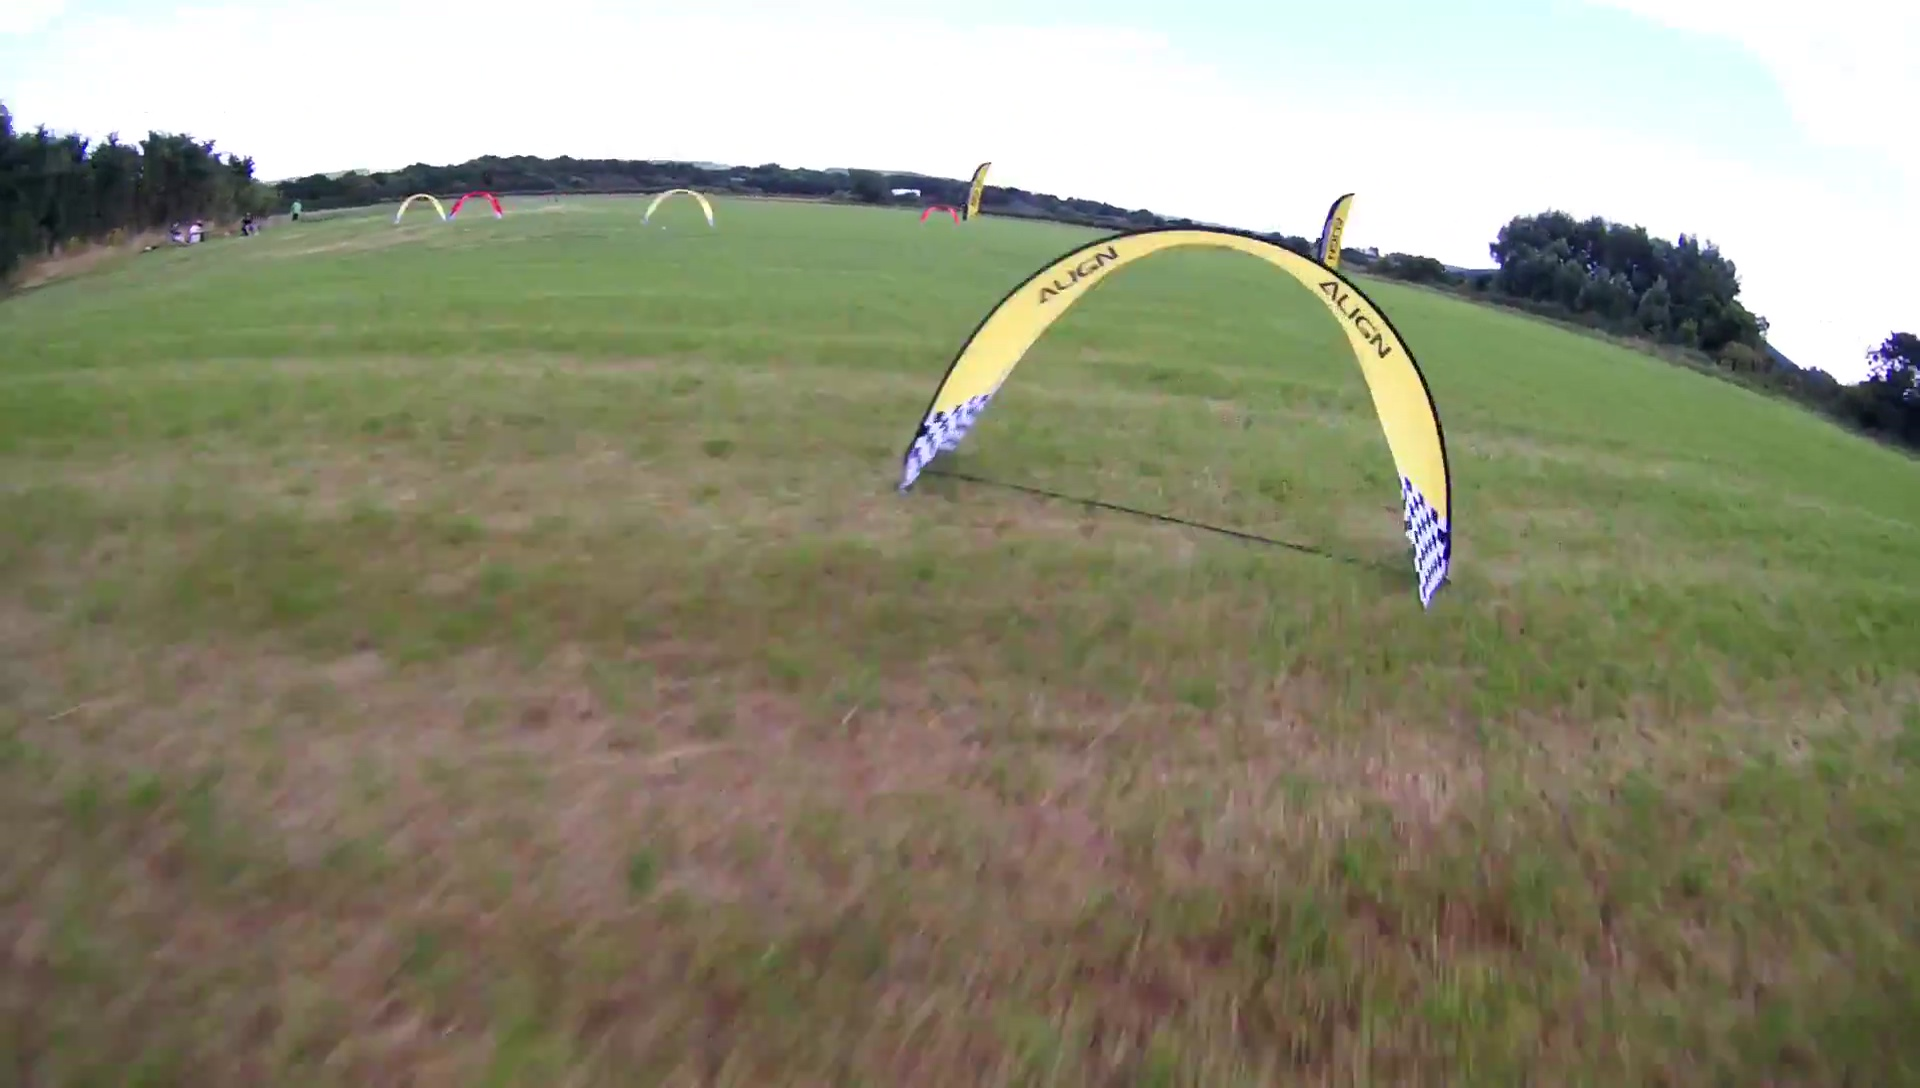gate: (894, 226, 1455, 611), (642, 186, 717, 226), (448, 189, 506, 222), (392, 193, 448, 226), (916, 202, 963, 228)
